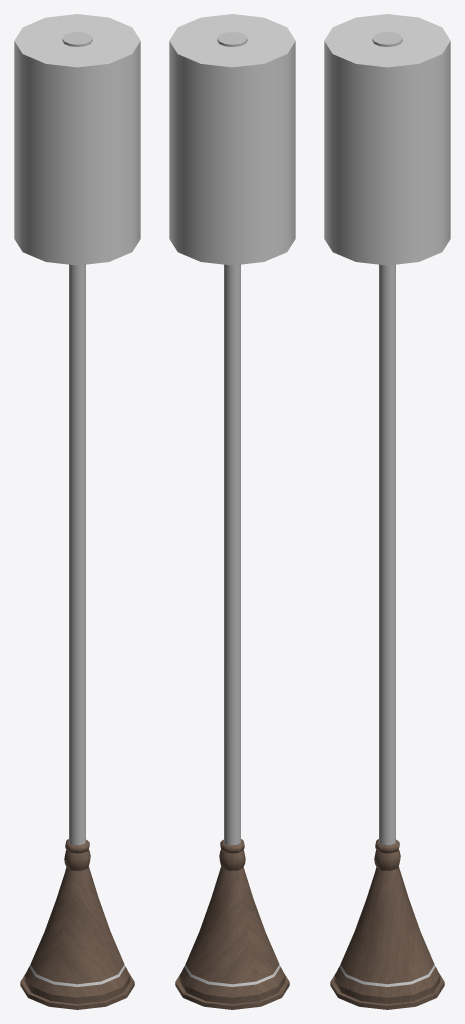
The model's file is D_Light_201.fbx.
The picture shows the model from 3 angles, left to right: view 1: azimuth 90°, elevation 25°; view 2: azimuth 150°, elevation 25°; view 3: azimuth 270°, elevation 25°; orthographic projection.
Visible parts, largest first — view 1: D_Light_201; view 2: D_Light_201; view 3: D_Light_201.
Part boxes in pixels (x1,y1,x2,y2): D_Light_201: (14,14,140,1009); D_Light_201: (169,14,295,1009); D_Light_201: (324,14,450,1009).
Size of the model in its own units: 0.2444 by 2.02 by 0.2444.
